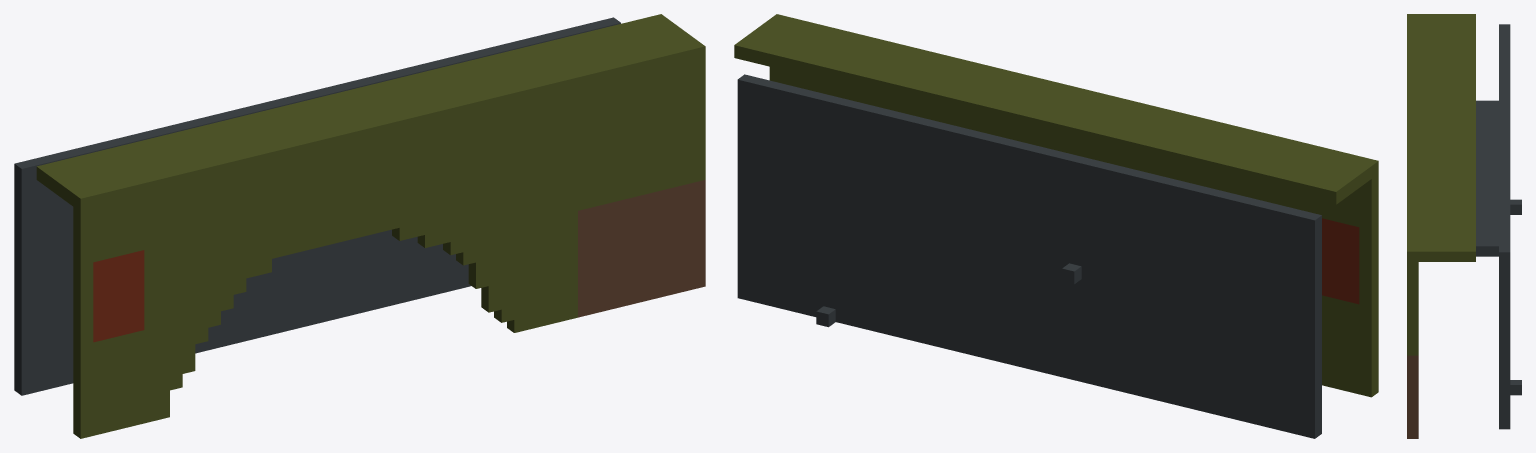
Rendered from technical_wing.glb.
The picture shows the model from 3 angles, left to right: view 1: azimuth 30°, elevation 25°; view 2: azimuth 150°, elevation 25°; view 3: azimuth 270°, elevation 25°; orthographic projection. The views are drawn at different scales.
Parts seen in each view (by area): view 1: body:compound; view 2: body:compound; view 3: body:compound.
Part boxes in pixels (bbox=[...]): body:compound: bbox=[14, 14, 705, 438]; body:compound: bbox=[734, 14, 1378, 438]; body:compound: bbox=[1407, 14, 1521, 438].
Bounding box in the file's own units: 1.53 × 0.5625 × 0.3125.
